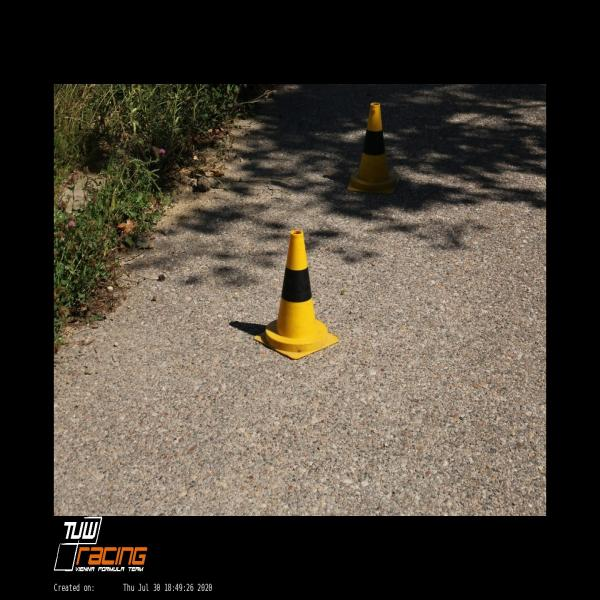yellow_cone: (254, 230, 338, 358), (348, 102, 398, 195)
